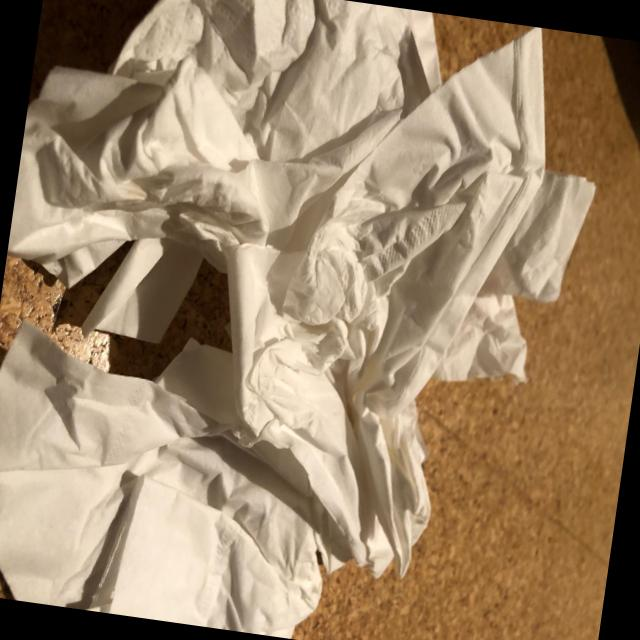organic waste: (132, 0, 619, 600), (0, 0, 453, 382), (0, 315, 353, 640)
